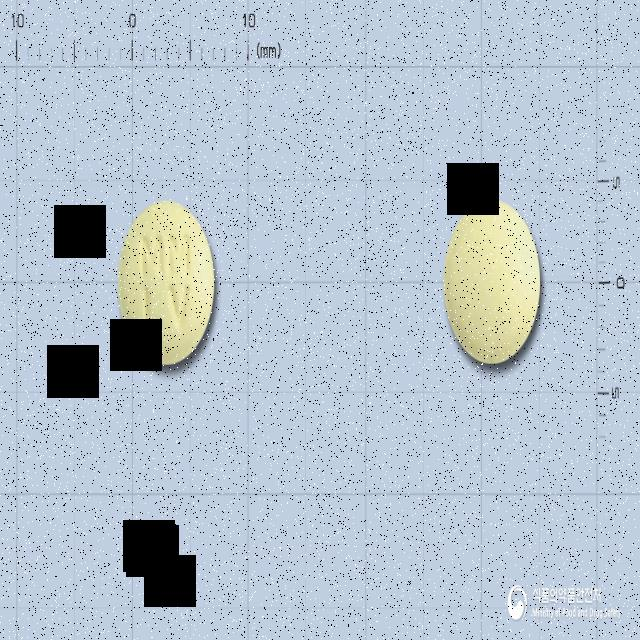Levofuracin: (117, 198, 215, 366)
